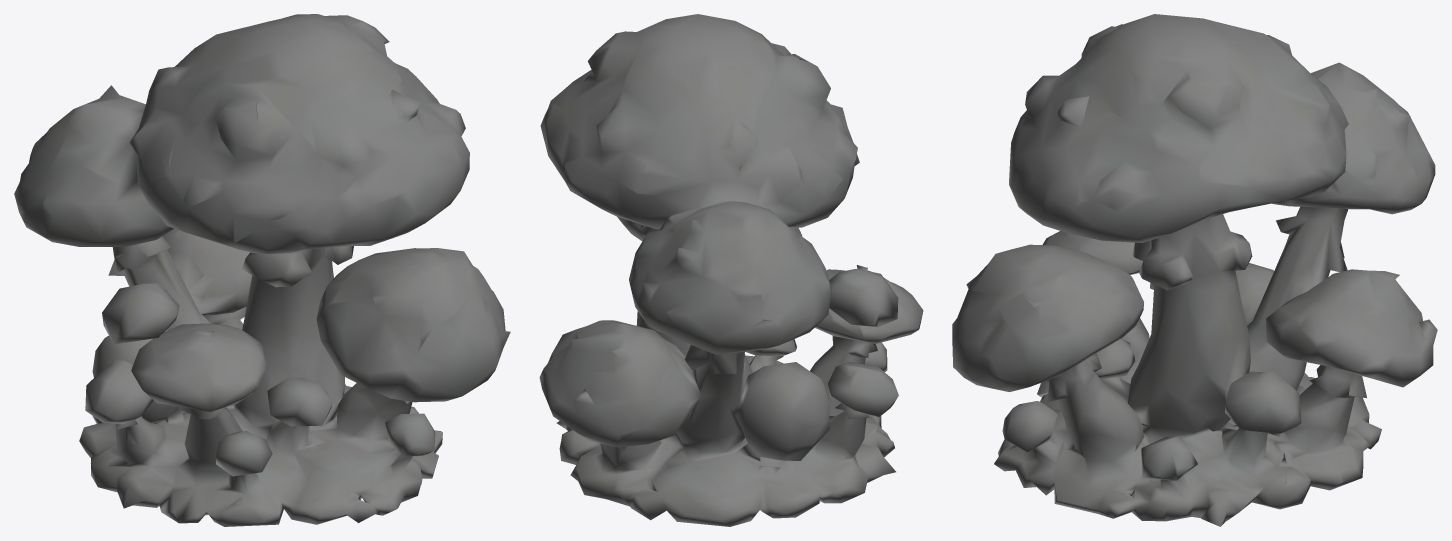
Rendered from prop_glow_toxic_mushroom_model.glb.
The picture shows the model from 3 angles, left to right: view 1: azimuth 30°, elevation 25°; view 2: azimuth 150°, elevation 25°; view 3: azimuth 270°, elevation 25°; orthographic projection. The views are drawn at different scales.
Visible parts, largest first — view 1: tripo_node_6a746bbb-479d-4b28-a5b6-258869ca1687; view 2: tripo_node_6a746bbb-479d-4b28-a5b6-258869ca1687; view 3: tripo_node_6a746bbb-479d-4b28-a5b6-258869ca1687.
Boxes of the visible parts, <box> form: tripo_node_6a746bbb-479d-4b28-a5b6-258869ca1687: <box>14,14,510,526</box>; tripo_node_6a746bbb-479d-4b28-a5b6-258869ca1687: <box>539,14,923,526</box>; tripo_node_6a746bbb-479d-4b28-a5b6-258869ca1687: <box>952,14,1437,526</box>.
Bounding box in the file's own units: 0.8432 × 1 × 0.9936.
Materials: 1 (1 with a texture image).
